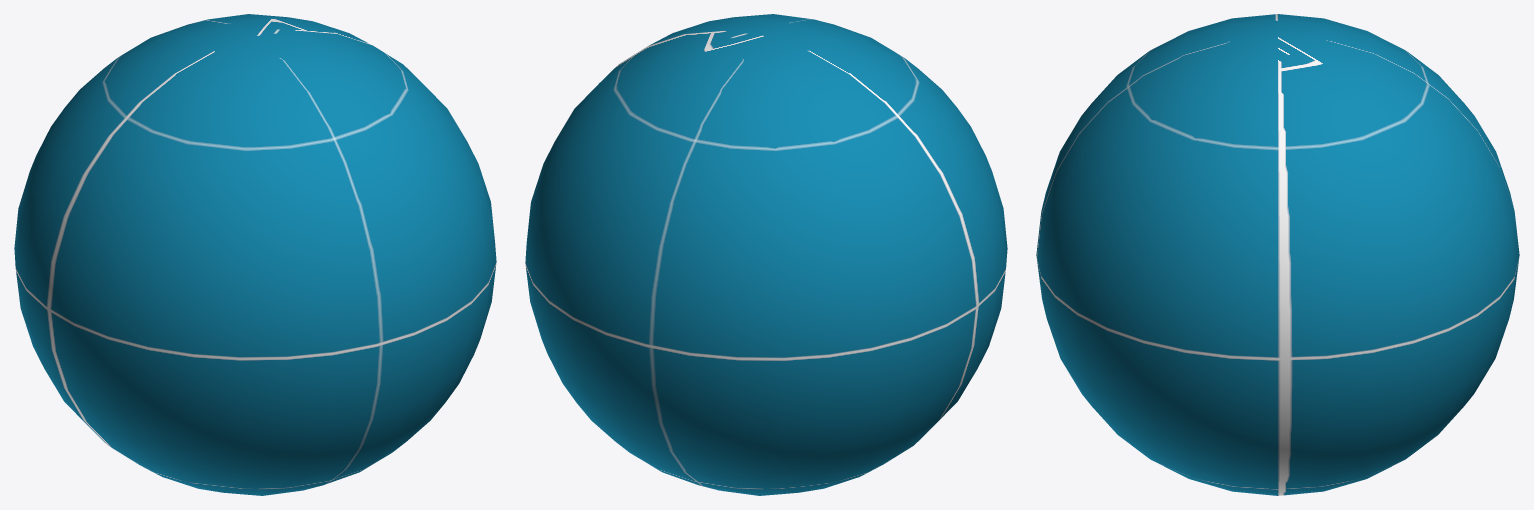
The model's file is ball.fbx.
3 views of the same model, side by side, from view 1: azimuth 30°, elevation 25°; view 2: azimuth 150°, elevation 25°; view 3: azimuth 270°, elevation 25° (orthographic).
Visible parts, largest first — view 1: ball; view 2: ball; view 3: ball.
Part boxes in pixels (x1,y1,x2,y2): ball: (14,14,496,495); ball: (525,14,1007,495); ball: (1036,14,1519,495).
Bounding box in the file's own units: 500 × 500 × 500.
1 material, 1 textured.
